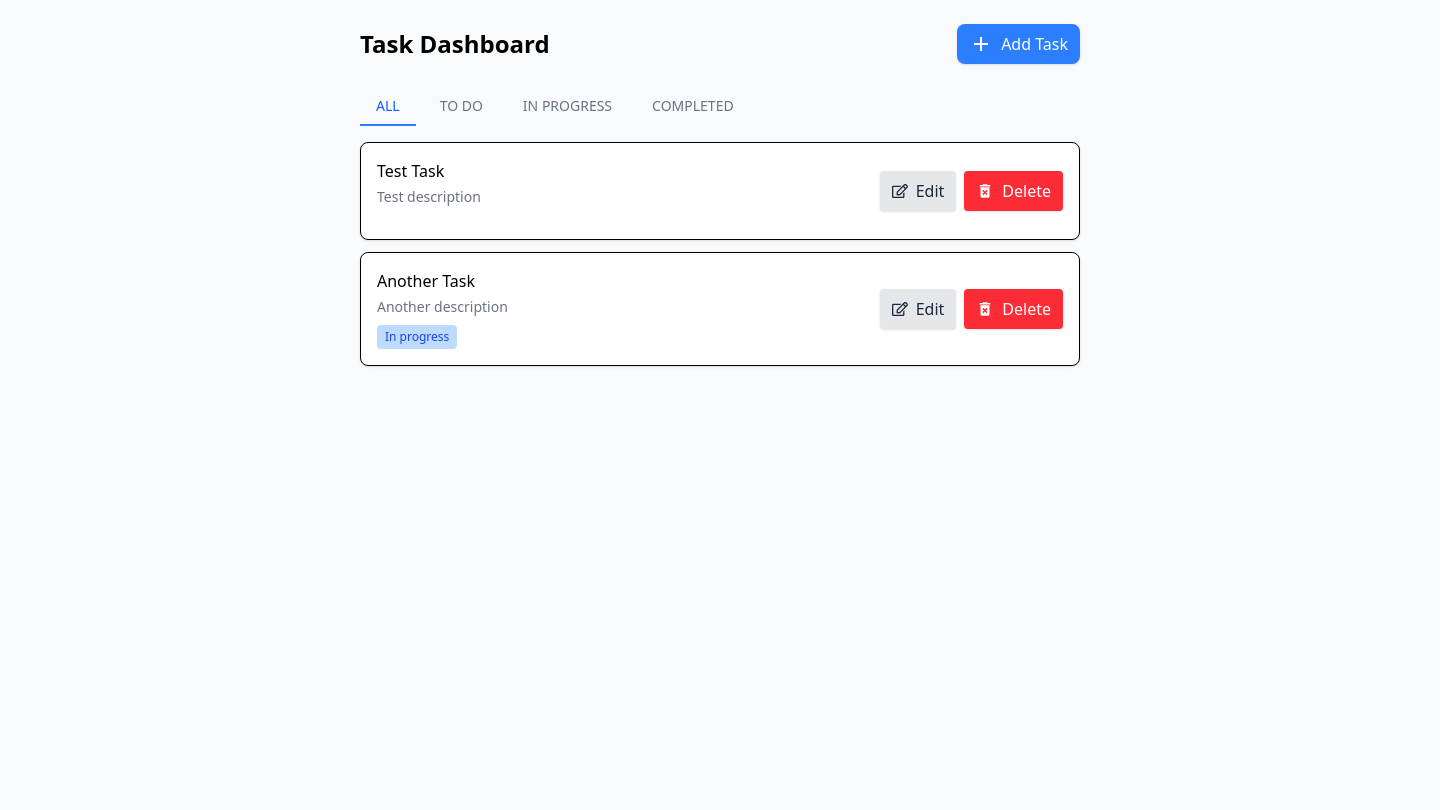
it: DashboardPage › opens create task modal when Add Task clicked
Click the button "Add Task": point(1019, 44) [957, 24, 1080, 64]
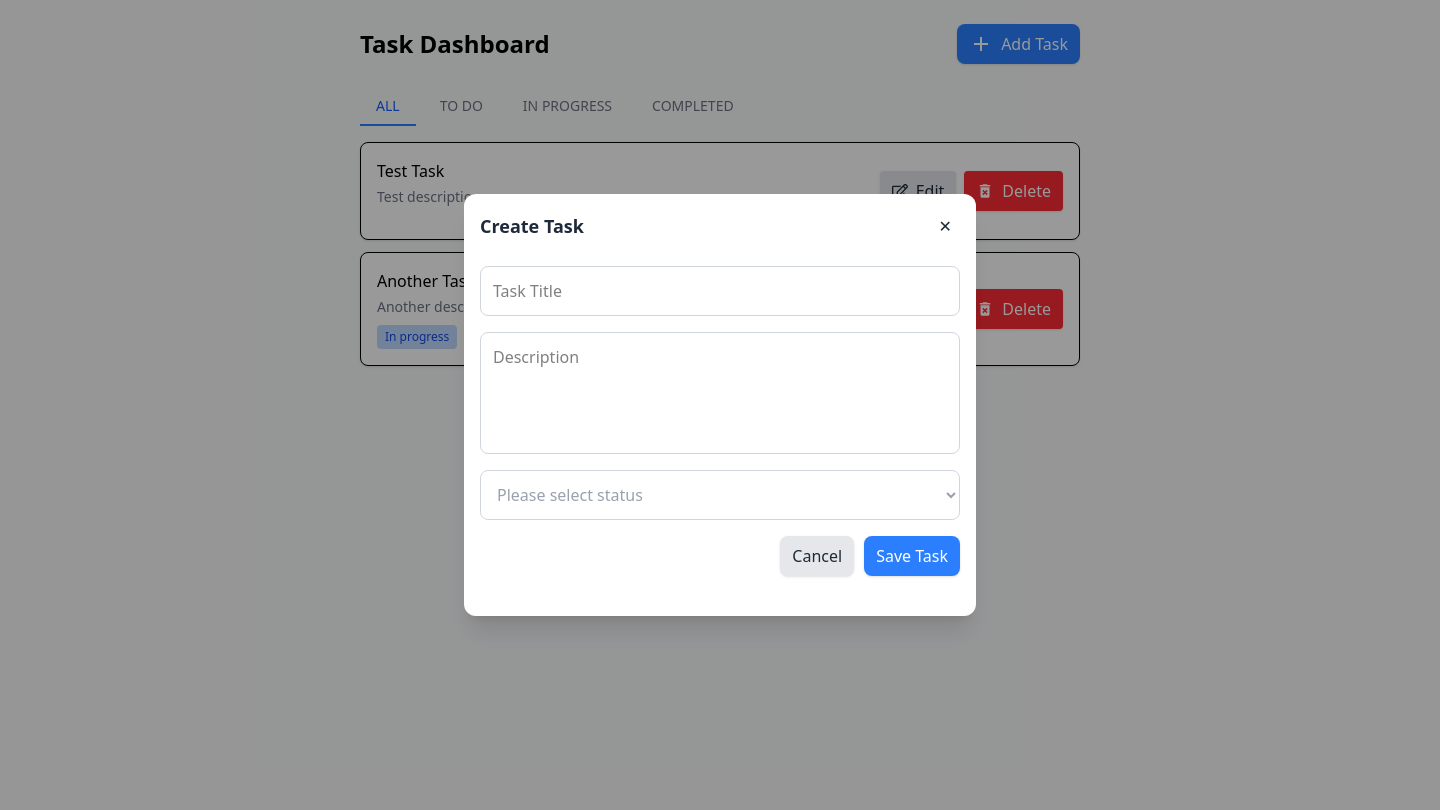
Check: the heading "Create Task" is shown, box [480, 212, 584, 240]
